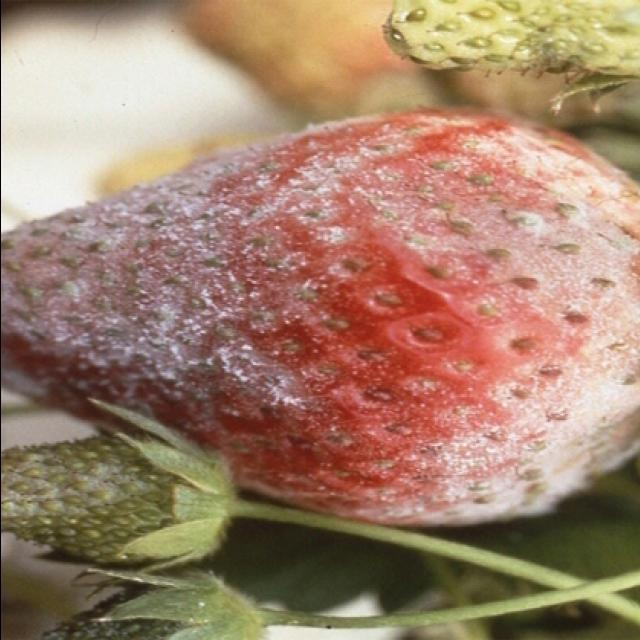Powdery Mildew Fruit: (2, 105, 640, 528), (2, 394, 224, 566)
